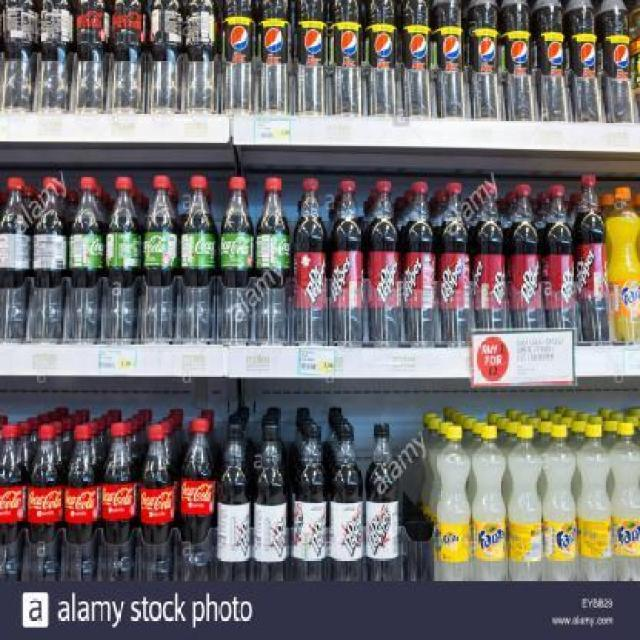Drinks: (219, 177, 255, 346), (255, 177, 291, 346), (328, 179, 364, 347), (292, 179, 328, 347), (99, 422, 136, 584), (138, 424, 175, 586), (436, 182, 472, 346), (181, 418, 217, 580), (471, 425, 508, 582), (63, 425, 100, 582), (27, 425, 64, 581), (292, 425, 329, 581), (365, 423, 401, 583), (181, 175, 215, 344), (574, 173, 608, 342), (367, 180, 401, 348), (217, 415, 251, 583), (436, 425, 472, 582), (143, 176, 177, 342), (328, 425, 364, 581), (69, 178, 103, 342), (32, 177, 66, 341), (402, 181, 436, 345), (252, 419, 286, 581), (578, 423, 612, 583), (107, 176, 139, 344), (543, 423, 577, 580), (508, 425, 542, 582), (471, 185, 507, 329), (0, 177, 31, 341), (608, 186, 639, 346), (541, 185, 575, 329), (508, 184, 540, 328), (0, 0, 40, 115), (0, 425, 28, 589), (612, 423, 640, 583), (595, 0, 631, 123), (39, 1, 76, 113), (256, 0, 292, 115), (293, 0, 329, 115), (185, 0, 221, 114), (76, 1, 112, 113), (111, 1, 147, 113), (222, 0, 257, 115), (329, 0, 364, 115), (366, 0, 401, 115), (467, 0, 501, 118), (431, 0, 465, 117), (149, 0, 184, 112), (564, 1, 596, 121), (501, 0, 532, 120), (533, 1, 564, 121), (402, 0, 433, 117)
